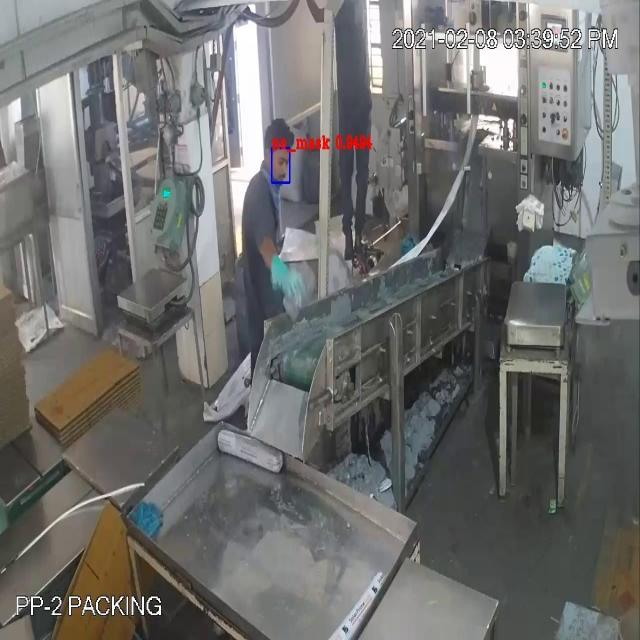Gloves: (256, 232, 312, 315)
